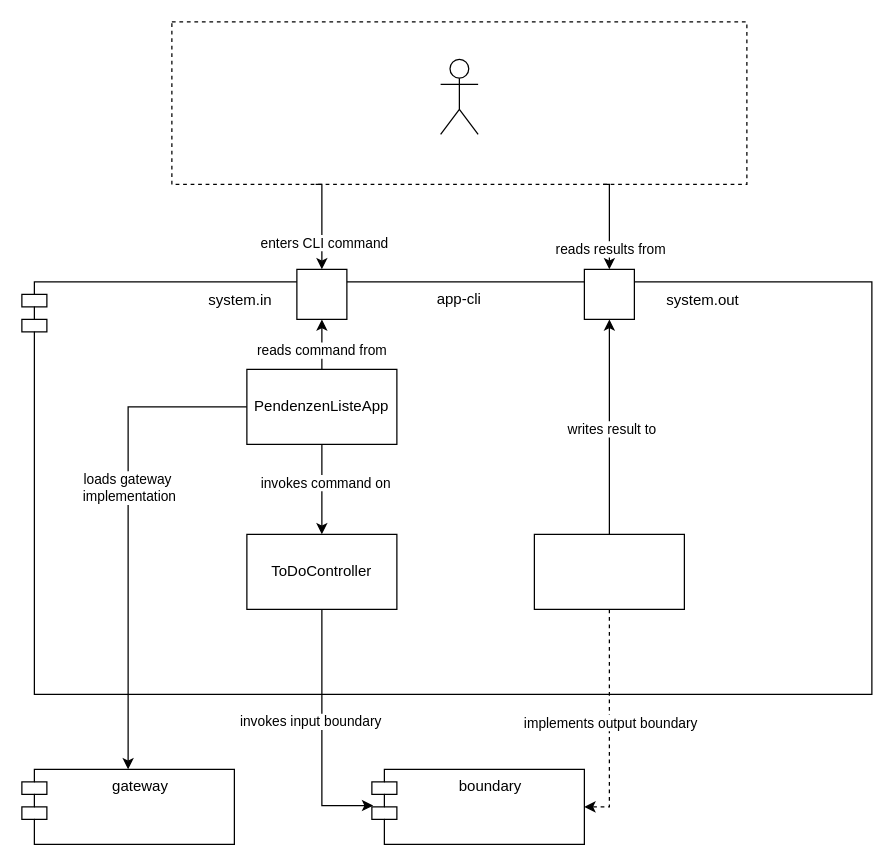
Some shapes in this 894 by 866 pixel diagram are drawn without their labels. Each missing label, with the box of its shape:
Presenter: (533, 533, 684, 609)
User: (439, 58, 478, 134)
